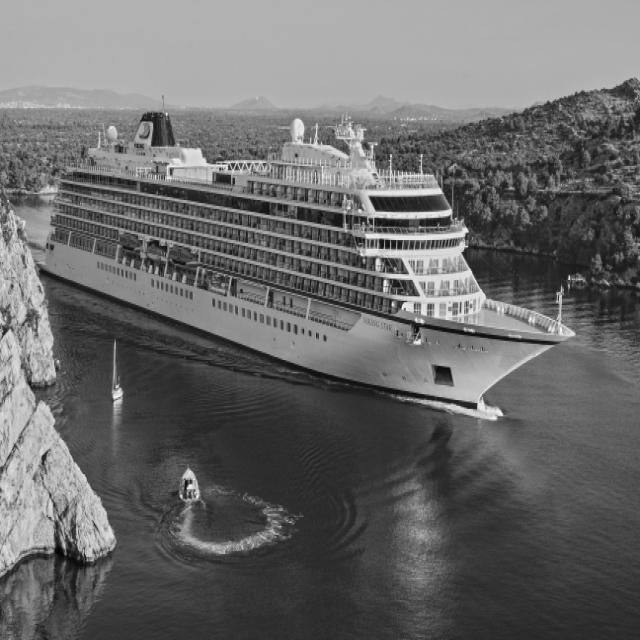cruises: (32, 102, 579, 429)
